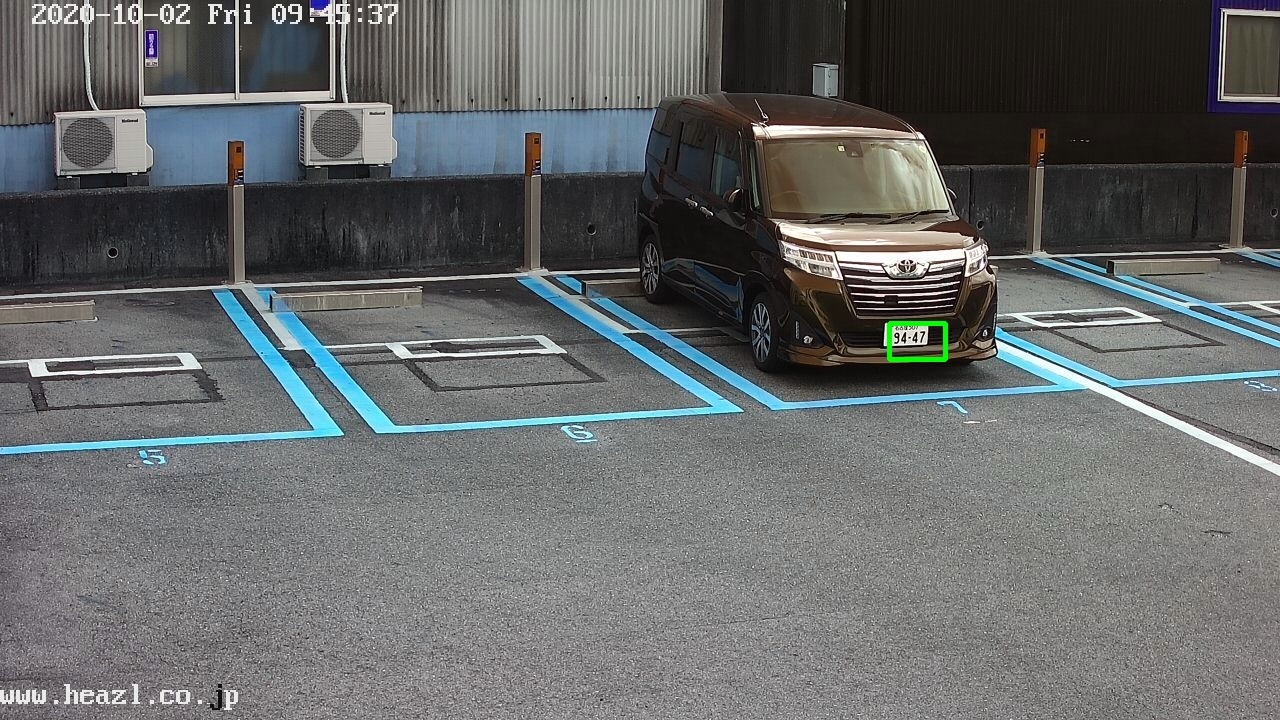number_plate: (885, 320, 929, 344)
